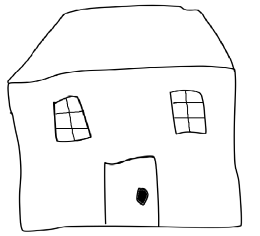big_house: (1, 0, 260, 236)
closed_window: (46, 90, 97, 149), (161, 85, 213, 139)
door: (95, 146, 165, 233)
roof: (7, 4, 252, 87)
wall: (4, 62, 249, 234)
